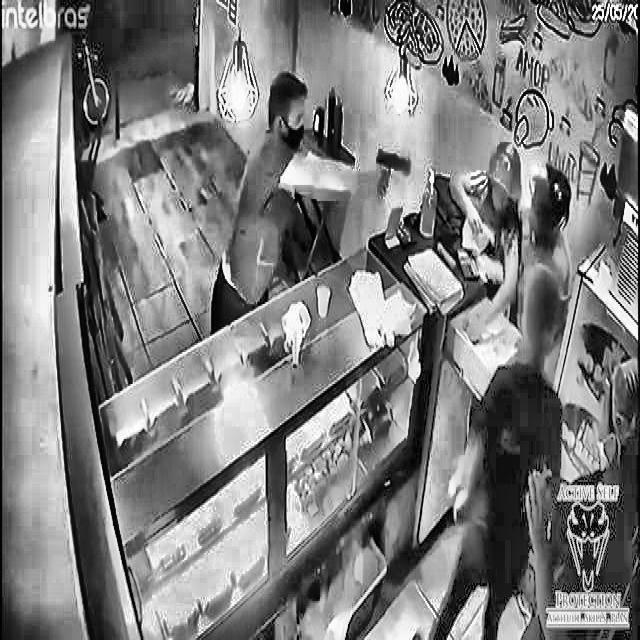robbery: (208, 59, 586, 637)
